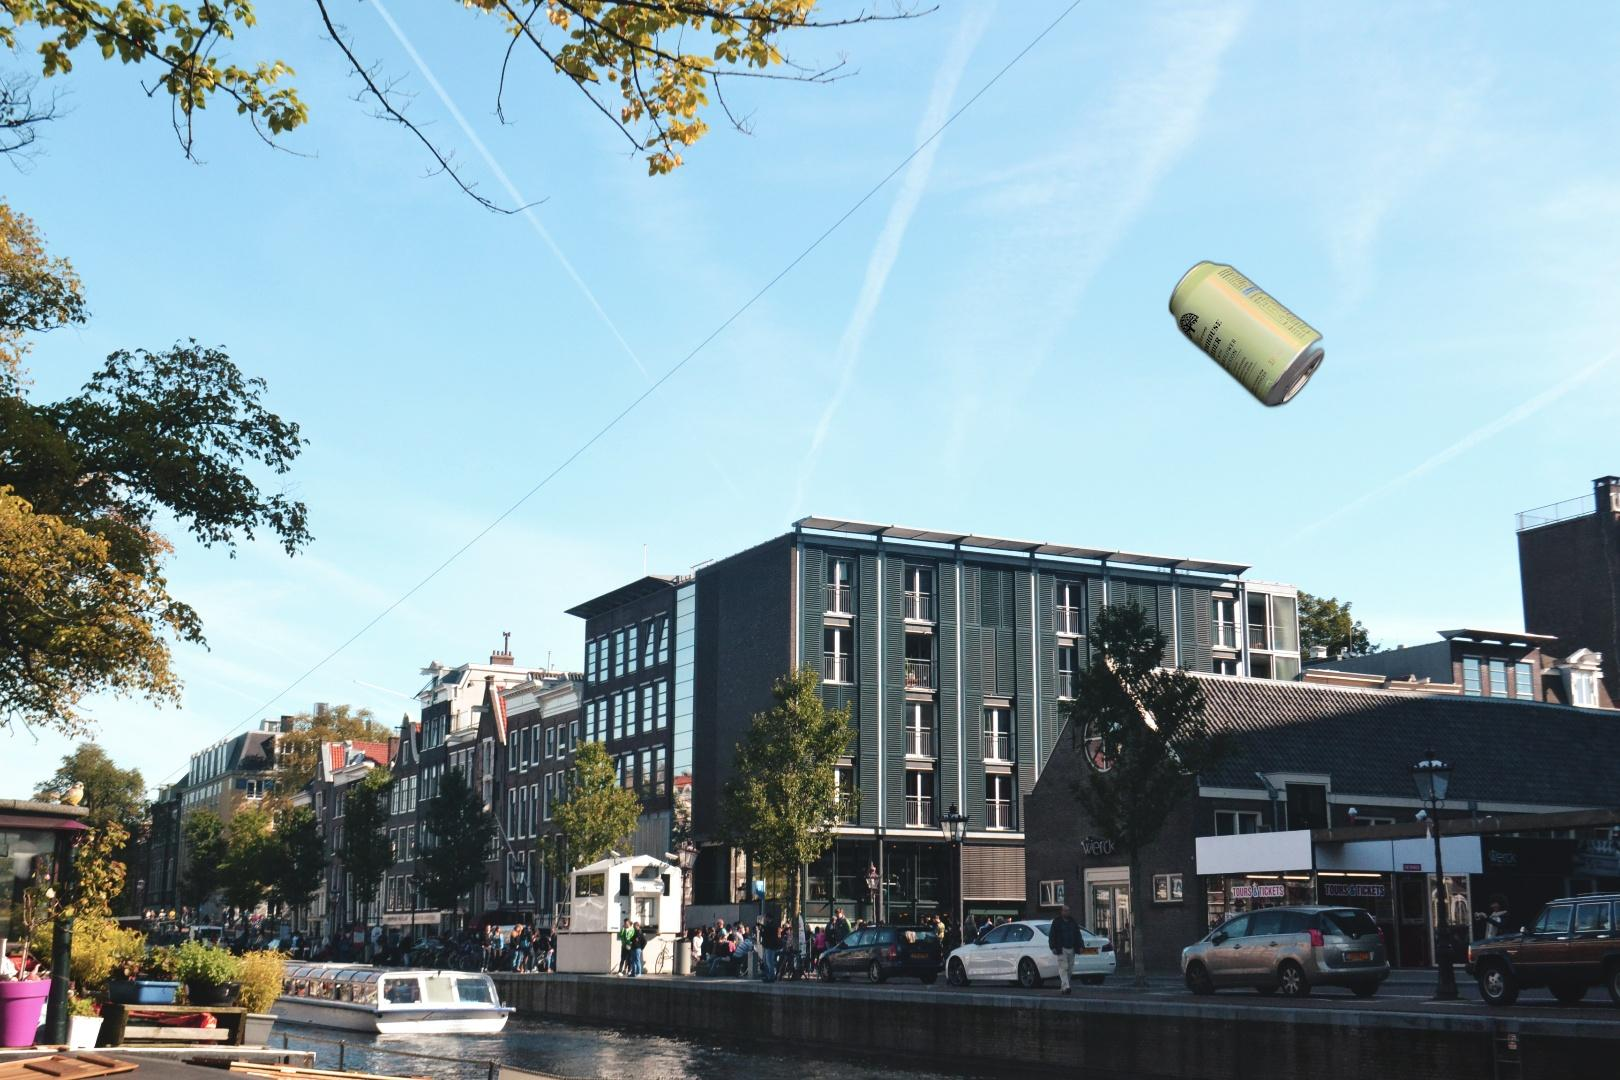metal-cans: (1164, 256, 1330, 413)
